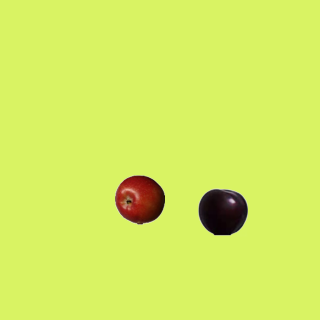Apple Braeburn: (114, 174, 164, 224)
Cherry Wax Black: (197, 186, 247, 236)
